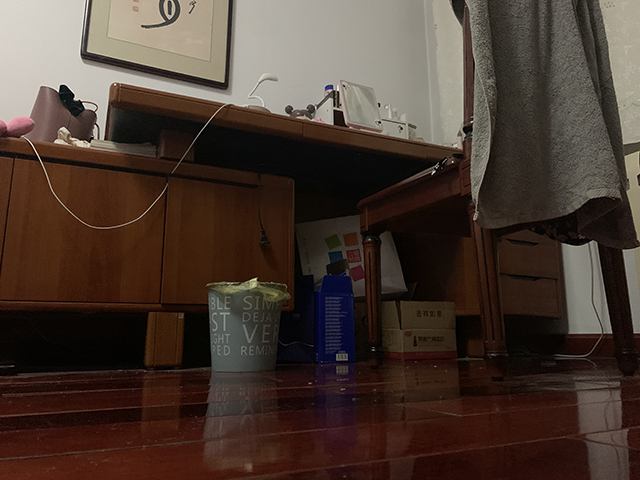stool: (357, 1, 640, 373)
table: (1, 80, 569, 376)
trashcan: (204, 280, 290, 374)
wire: (552, 241, 605, 360)
